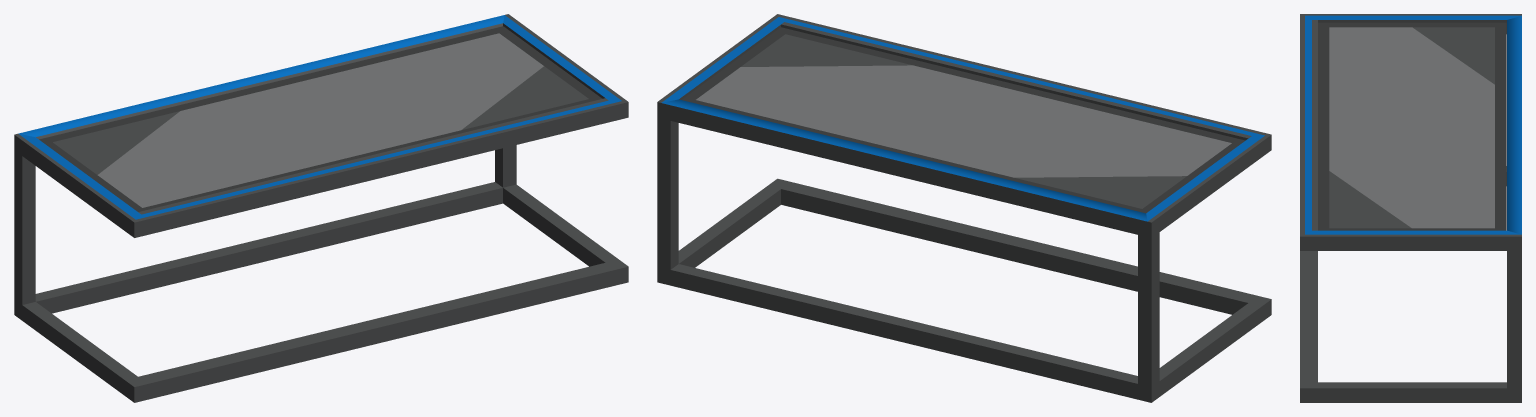
The model's file is Desk_013.fbx.
3 views of the same model, side by side, from view 1: azimuth 30°, elevation 25°; view 2: azimuth 150°, elevation 25°; view 3: azimuth 270°, elevation 25° (orthographic). The views are drawn at different scales.
Visible parts, largest first — view 1: Desk_013; view 2: Desk_013; view 3: Desk_013.
Boxes of the visible parts, x1,y1,x2,y2 form: Desk_013: [14, 14, 628, 402]; Desk_013: [657, 14, 1271, 402]; Desk_013: [1300, 14, 1521, 402].
Bounding box in the file's own units: 242 × 102 × 84.21.
